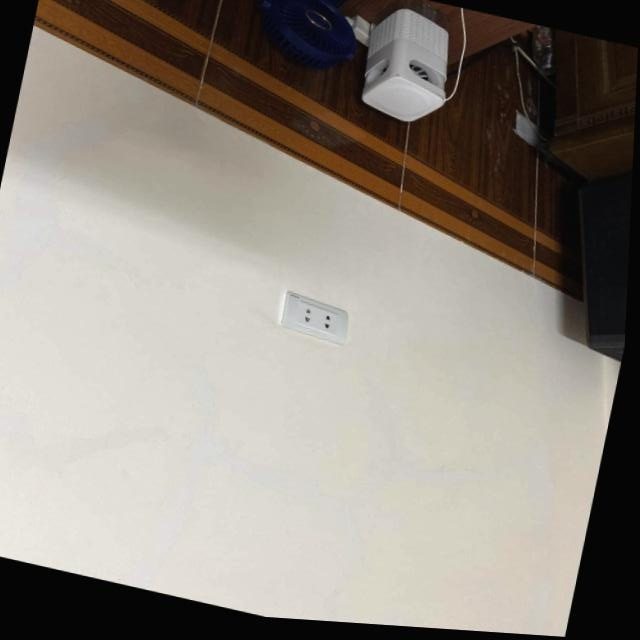outlet: (278, 290, 354, 346)
